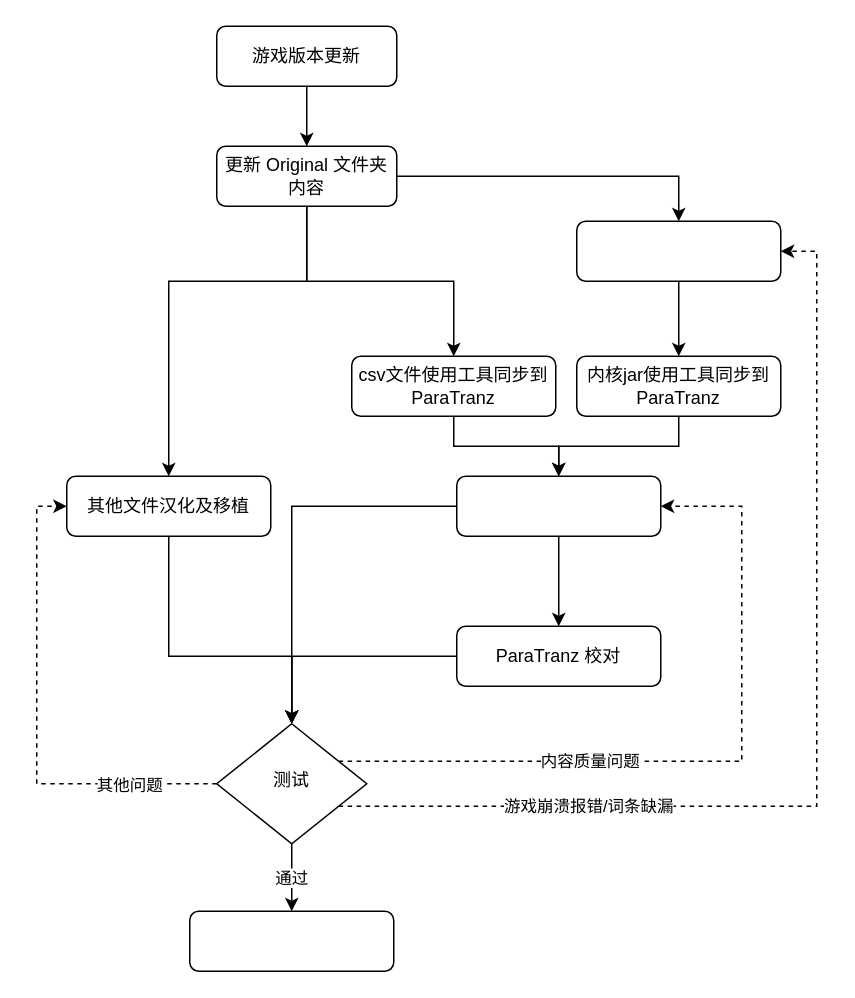
This 855x998 diagram has some shape labels left out. The box of each missing label's shape, as (x1, y1, x2, y2) in pixels:
ParaTranz 汉化: (455, 475, 661, 536)
制作内核文件对照表并查找新增词条: (575, 220, 781, 281)
发布正式汉化: (188, 910, 394, 971)
